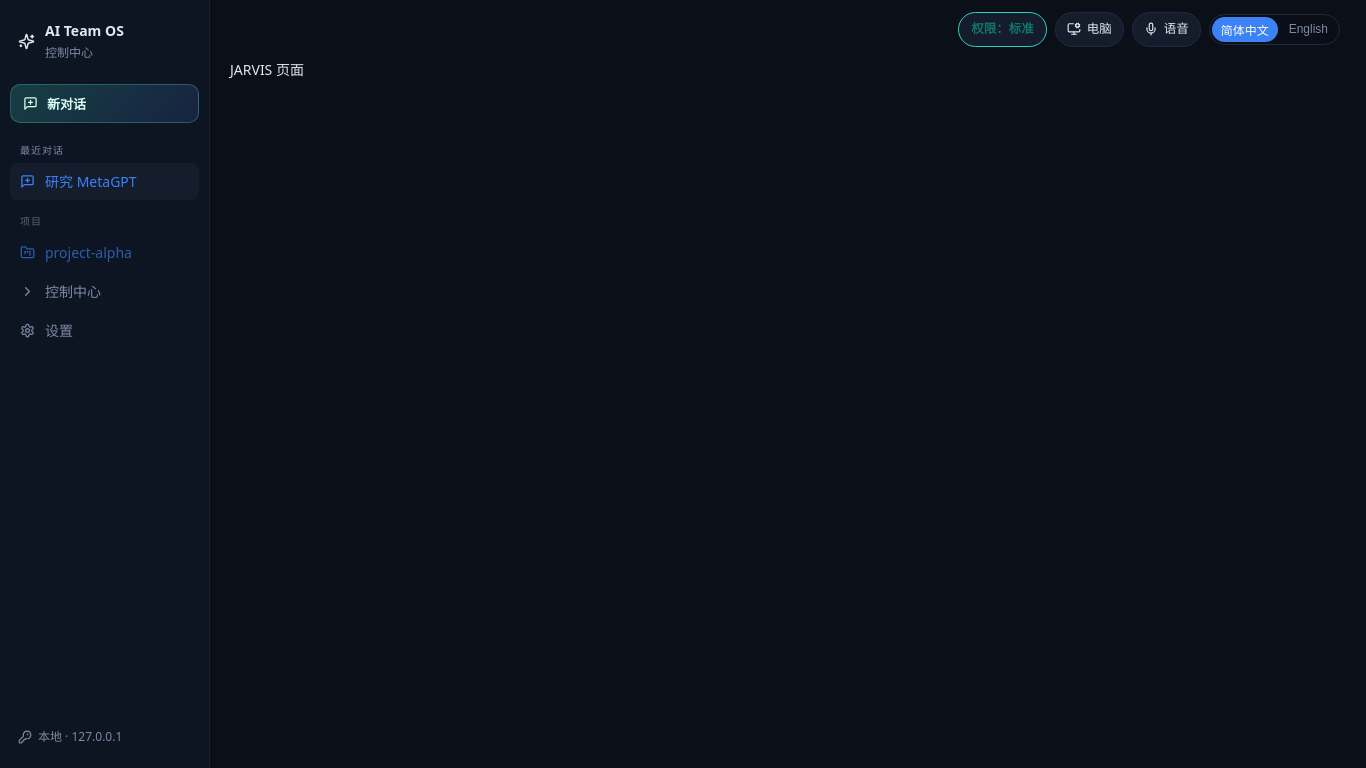
Test: NAV · 三栏信息架构 › NAV08: 既有页面路由未删除（/usage 可达）
This screenshot has width=1366, height=768.
Click the button "控制中心".
click(104, 292)  # box top-left (10, 273), bottom-right (199, 310)
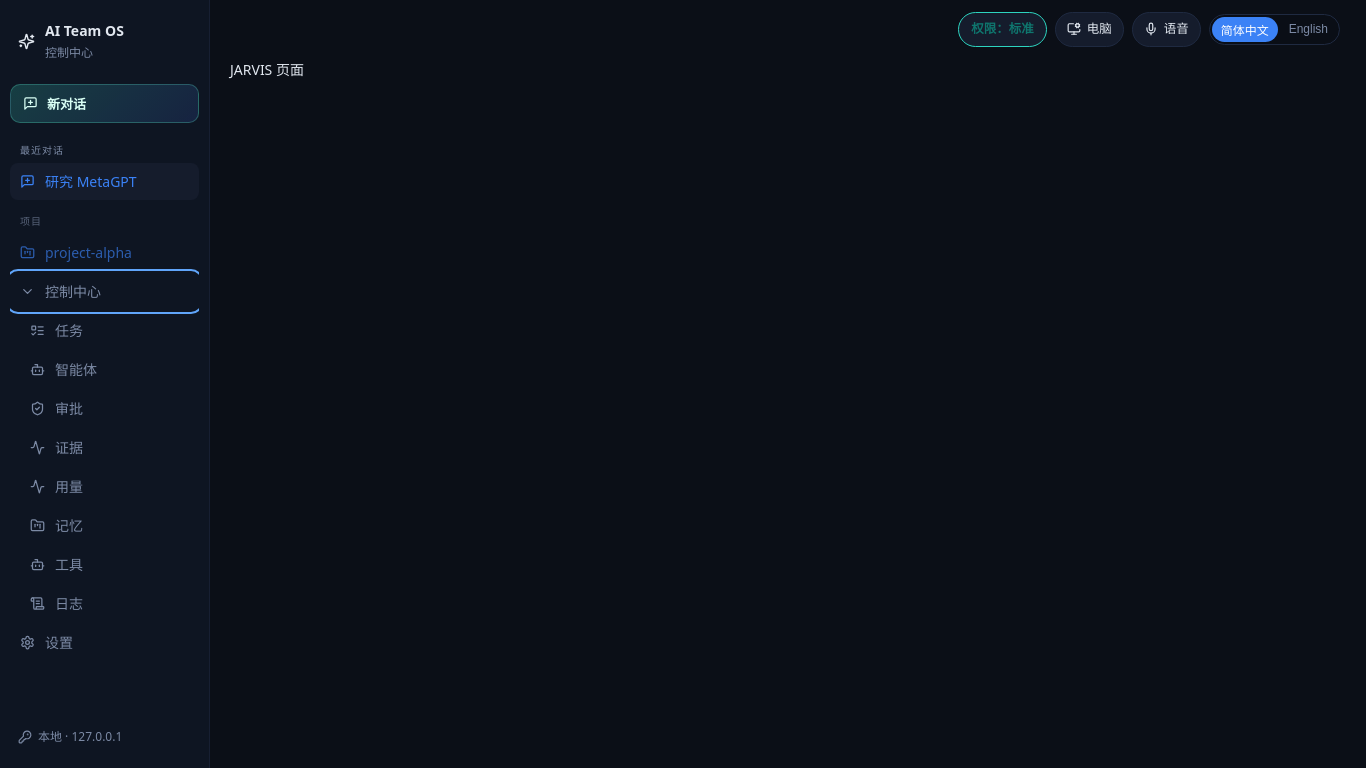
Click the link "用量".
click(56, 486)  # box top-left (30, 477), bottom-right (83, 496)
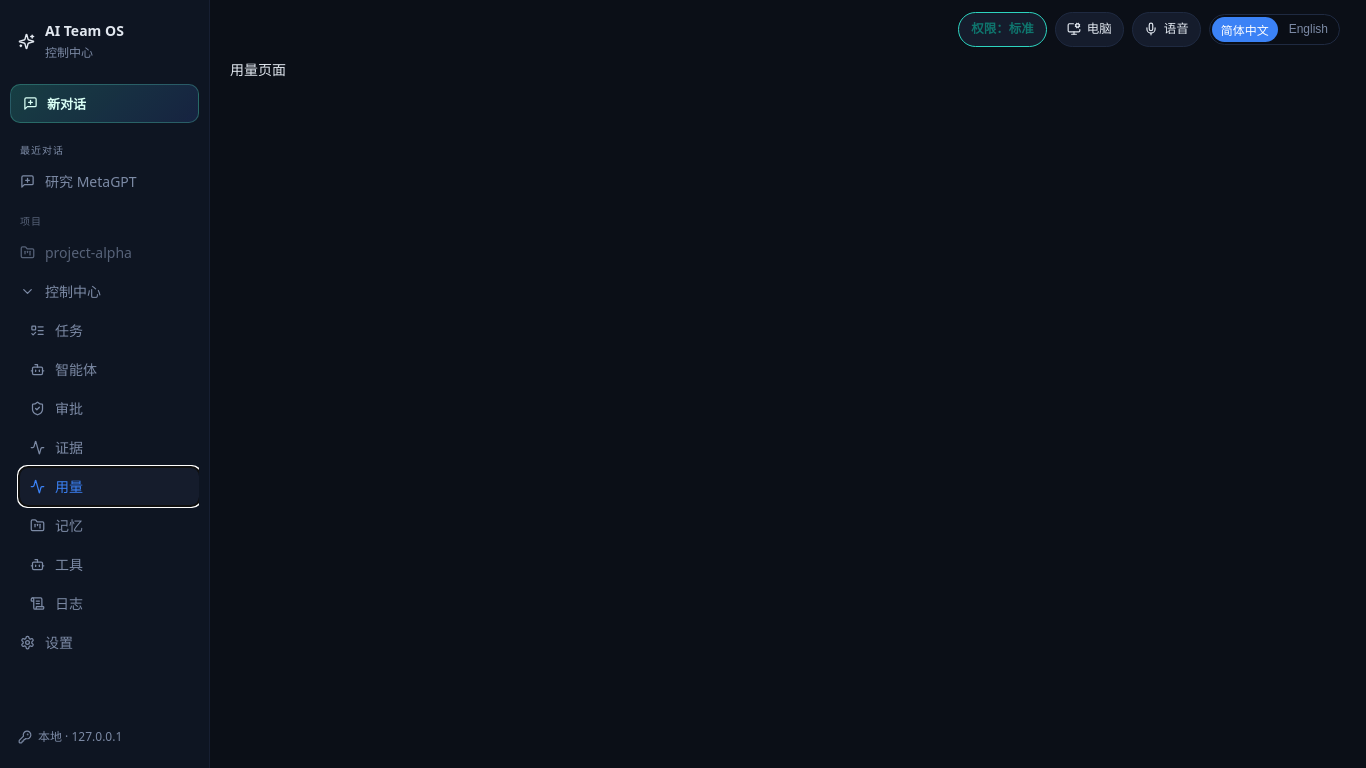
Expected: the text "用量页面" is shown, top-left (230, 60), bottom-right (286, 79)
